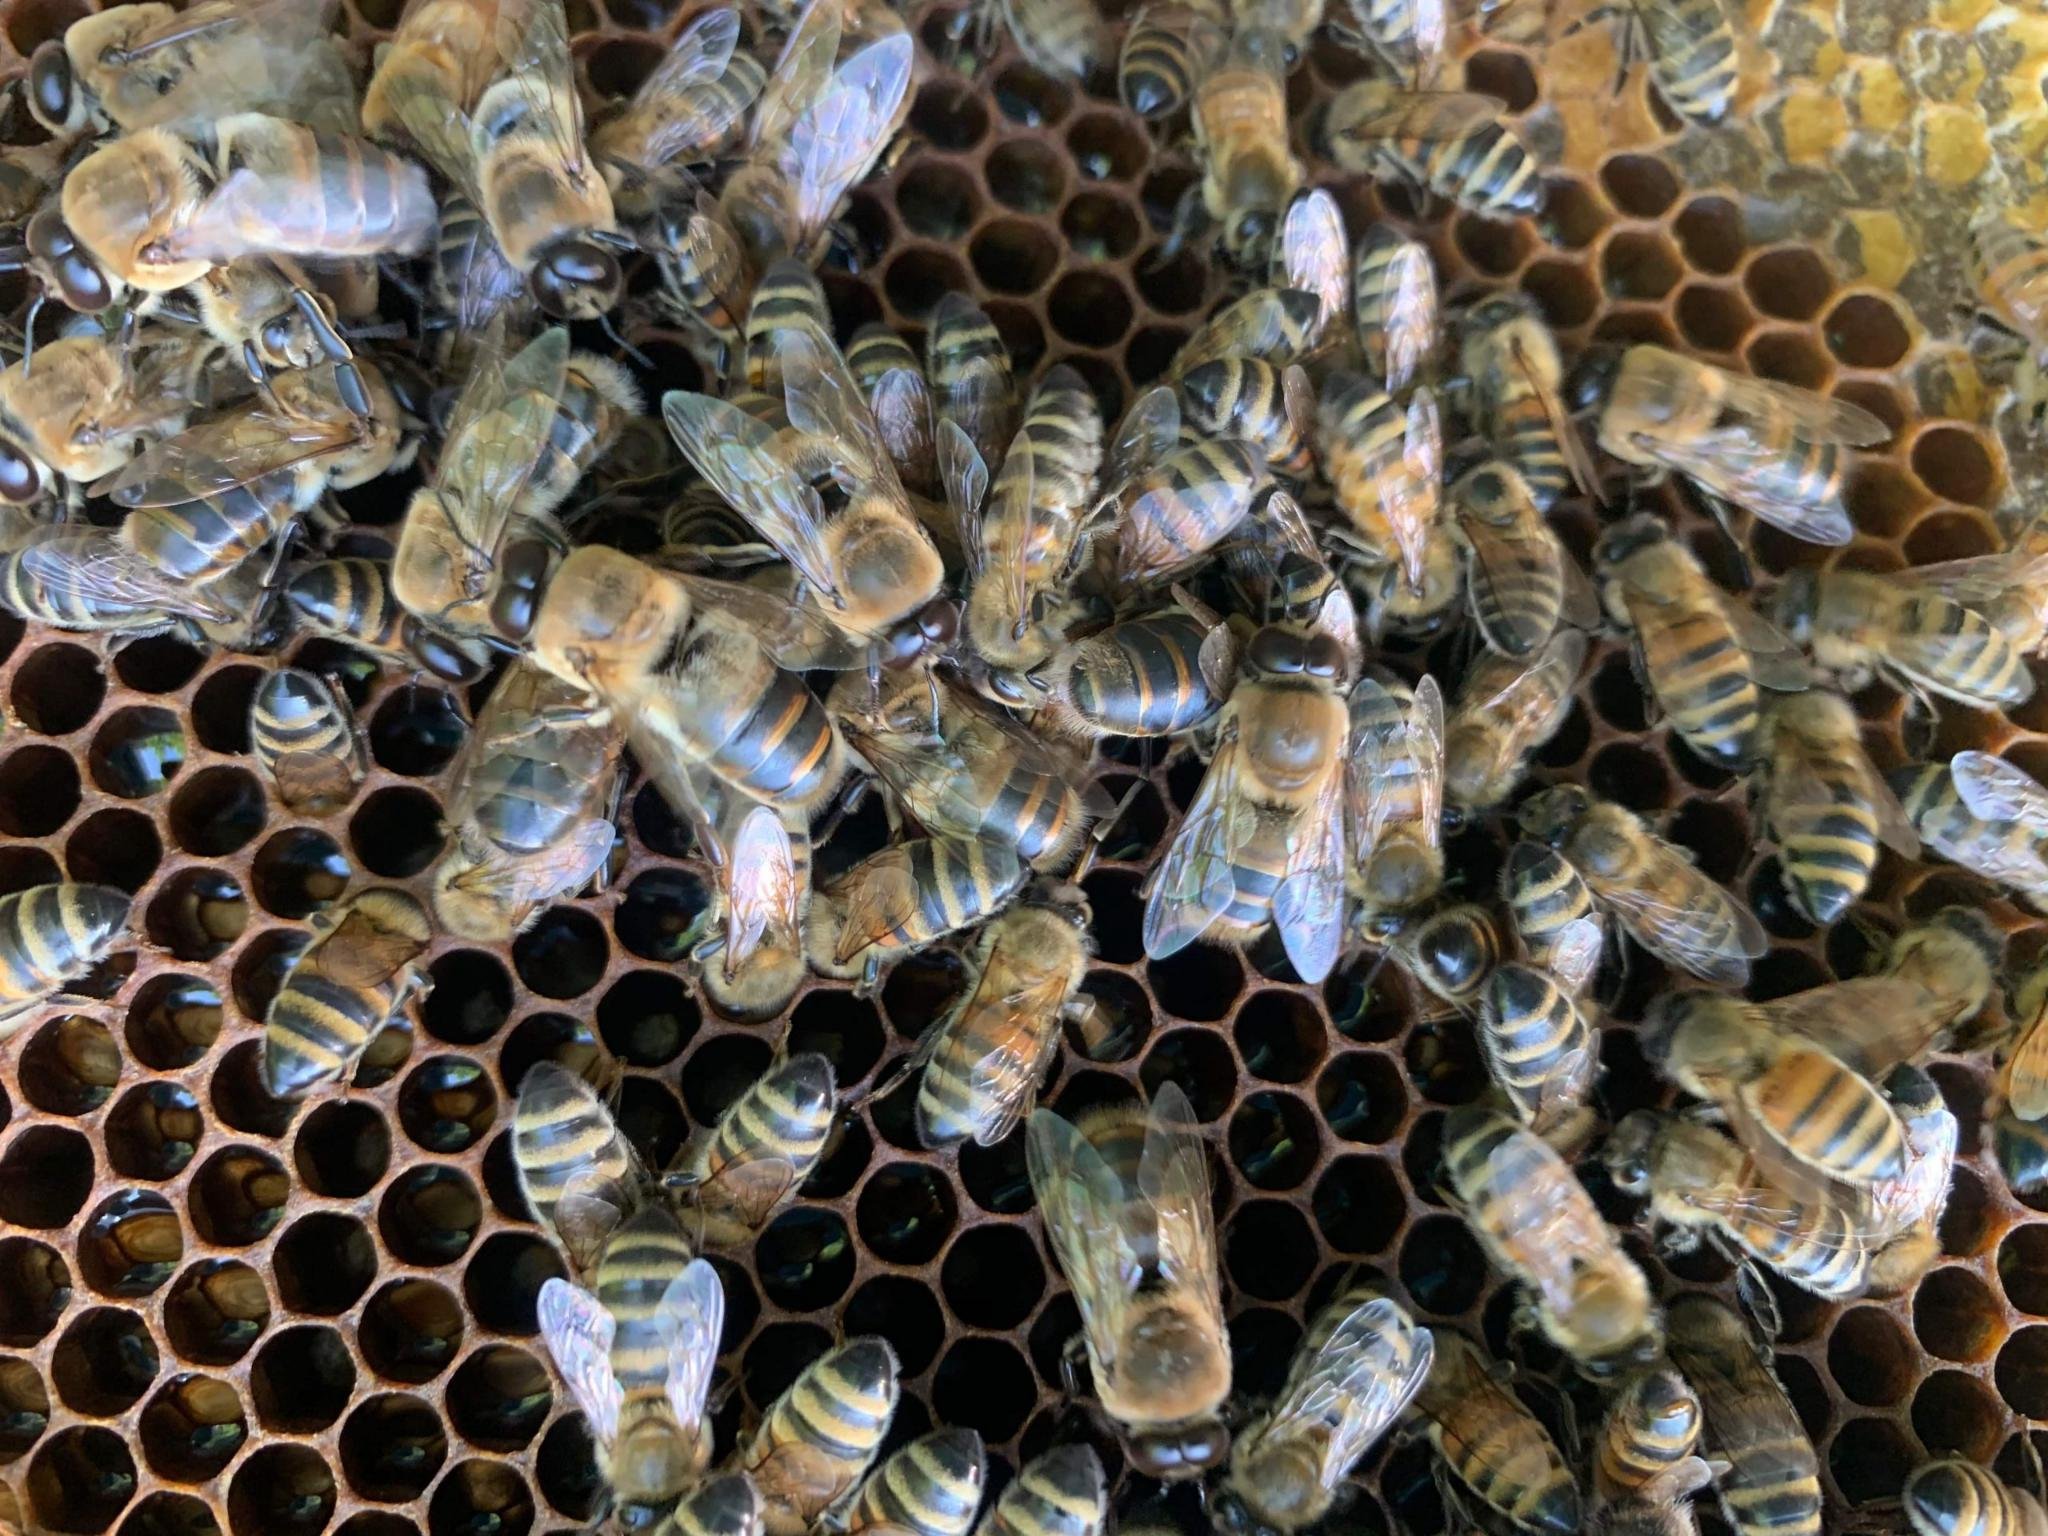bee: (1442, 1105, 1658, 1371), (1222, 1281, 1411, 1536), (1625, 1107, 1869, 1299), (1659, 995, 1903, 1179), (921, 881, 1085, 1146), (1537, 789, 1748, 986), (1600, 526, 1756, 762), (1664, 1299, 1819, 1536), (595, 1208, 708, 1525), (1782, 571, 2037, 705), (722, 1339, 895, 1534), (1324, 365, 1448, 629), (1422, 1333, 1579, 1526), (268, 894, 424, 1086), (514, 1060, 640, 1296), (1434, 444, 1567, 653), (976, 397, 1085, 650), (1322, 84, 1540, 211), (1085, 436, 1261, 591), (1766, 679, 1875, 918), (816, 844, 1021, 971), (693, 1054, 830, 1234), (1438, 634, 1572, 818), (173, 221, 334, 366), (1347, 670, 1432, 933), (0, 542, 273, 624), (1880, 763, 2046, 897), (1858, 915, 1990, 1079), (714, 789, 813, 1010), (606, 53, 769, 182), (443, 807, 605, 936), (1472, 295, 1566, 511), (1484, 973, 1600, 1139), (384, 0, 518, 139), (1867, 1065, 1954, 1275), (1200, 65, 1300, 237), (1222, 444, 1322, 611), (1596, 1378, 1701, 1536), (655, 208, 763, 361), (834, 1425, 982, 1536), (1185, 357, 1329, 471), (930, 287, 1016, 473), (0, 884, 132, 999), (260, 670, 361, 818), (1171, 287, 1322, 384), (292, 560, 455, 647), (747, 255, 829, 421), (1505, 845, 1601, 986), (1630, 0, 1738, 124), (1356, 224, 1445, 369), (1284, 552, 1363, 708), (1122, 0, 1227, 115), (843, 318, 922, 468), (1996, 966, 2048, 1189), (1274, 189, 1351, 337), (1966, 210, 2046, 350), (979, 1447, 1105, 1536), (1908, 1462, 2046, 1536), (1416, 902, 1514, 999), (1000, 0, 1100, 81), (666, 1475, 755, 1534), (1364, 0, 1445, 65), (1242, 0, 1319, 60)
drone: (497, 541, 830, 795), (29, 115, 434, 313), (124, 353, 416, 587), (403, 366, 621, 678), (711, 399, 953, 668), (1076, 1123, 1237, 1468), (813, 649, 1063, 854), (1187, 621, 1343, 931), (474, 582, 648, 850), (1574, 345, 1846, 513), (729, 8, 900, 255), (0, 313, 218, 494), (34, 3, 348, 123), (471, 86, 621, 316), (1069, 608, 1279, 723)
